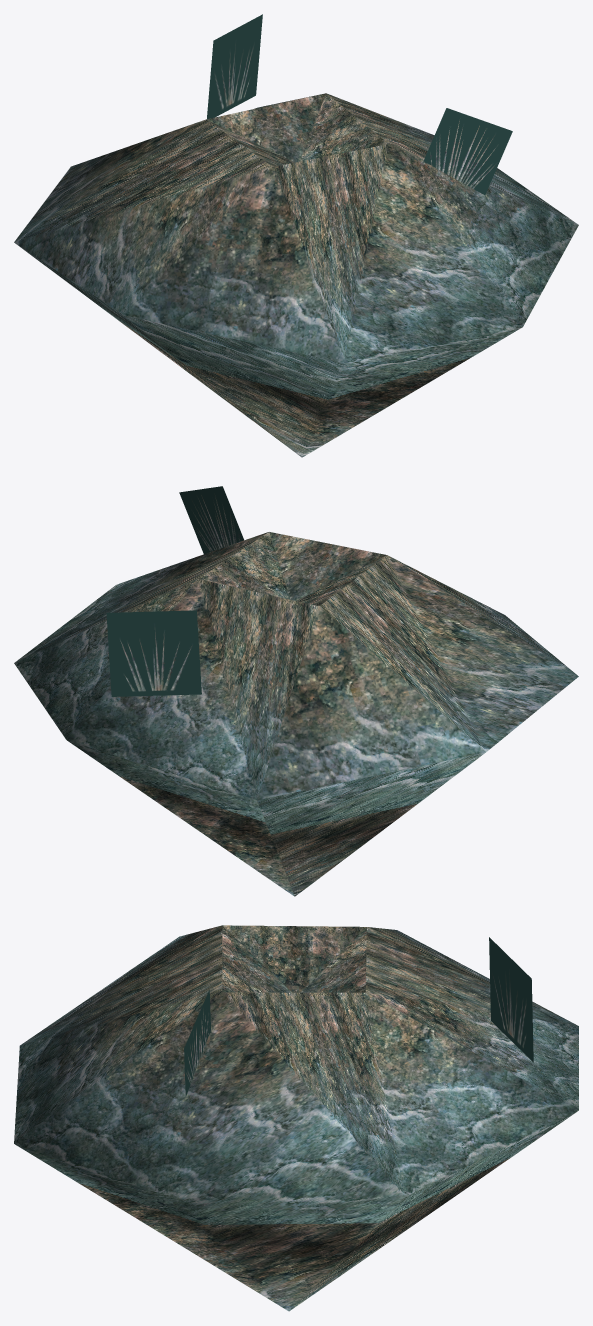
Rendered from rock_crystl_mound_med_l4.fbx.
3 views of the same model, one above another, from view 1: azimuth 30°, elevation 25°; view 2: azimuth 150°, elevation 25°; view 3: azimuth 270°, elevation 25° (orthographic). The views are drawn at different scales.
Parts seen in each view (by area): view 1: mesh_node; view 2: mesh_node; view 3: mesh_node.
Part boxes in pixels (x1,y1,x2,y2): mesh_node: [14, 14, 578, 457]; mesh_node: [14, 486, 578, 896]; mesh_node: [14, 925, 578, 1311].
Bounding box in the file's own units: 16.14 × 11.65 × 15.73.
